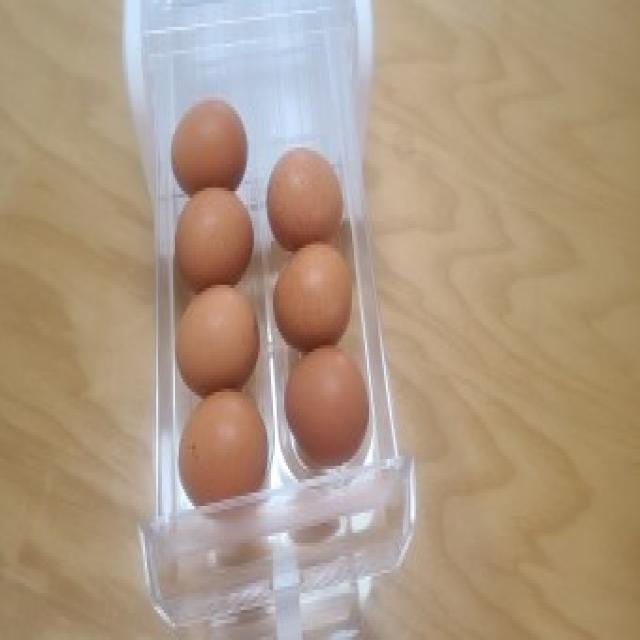eggs: (171, 387, 272, 507), (283, 343, 373, 475), (272, 237, 357, 349), (172, 286, 262, 390), (170, 187, 257, 291), (267, 143, 347, 255), (173, 95, 251, 197)
